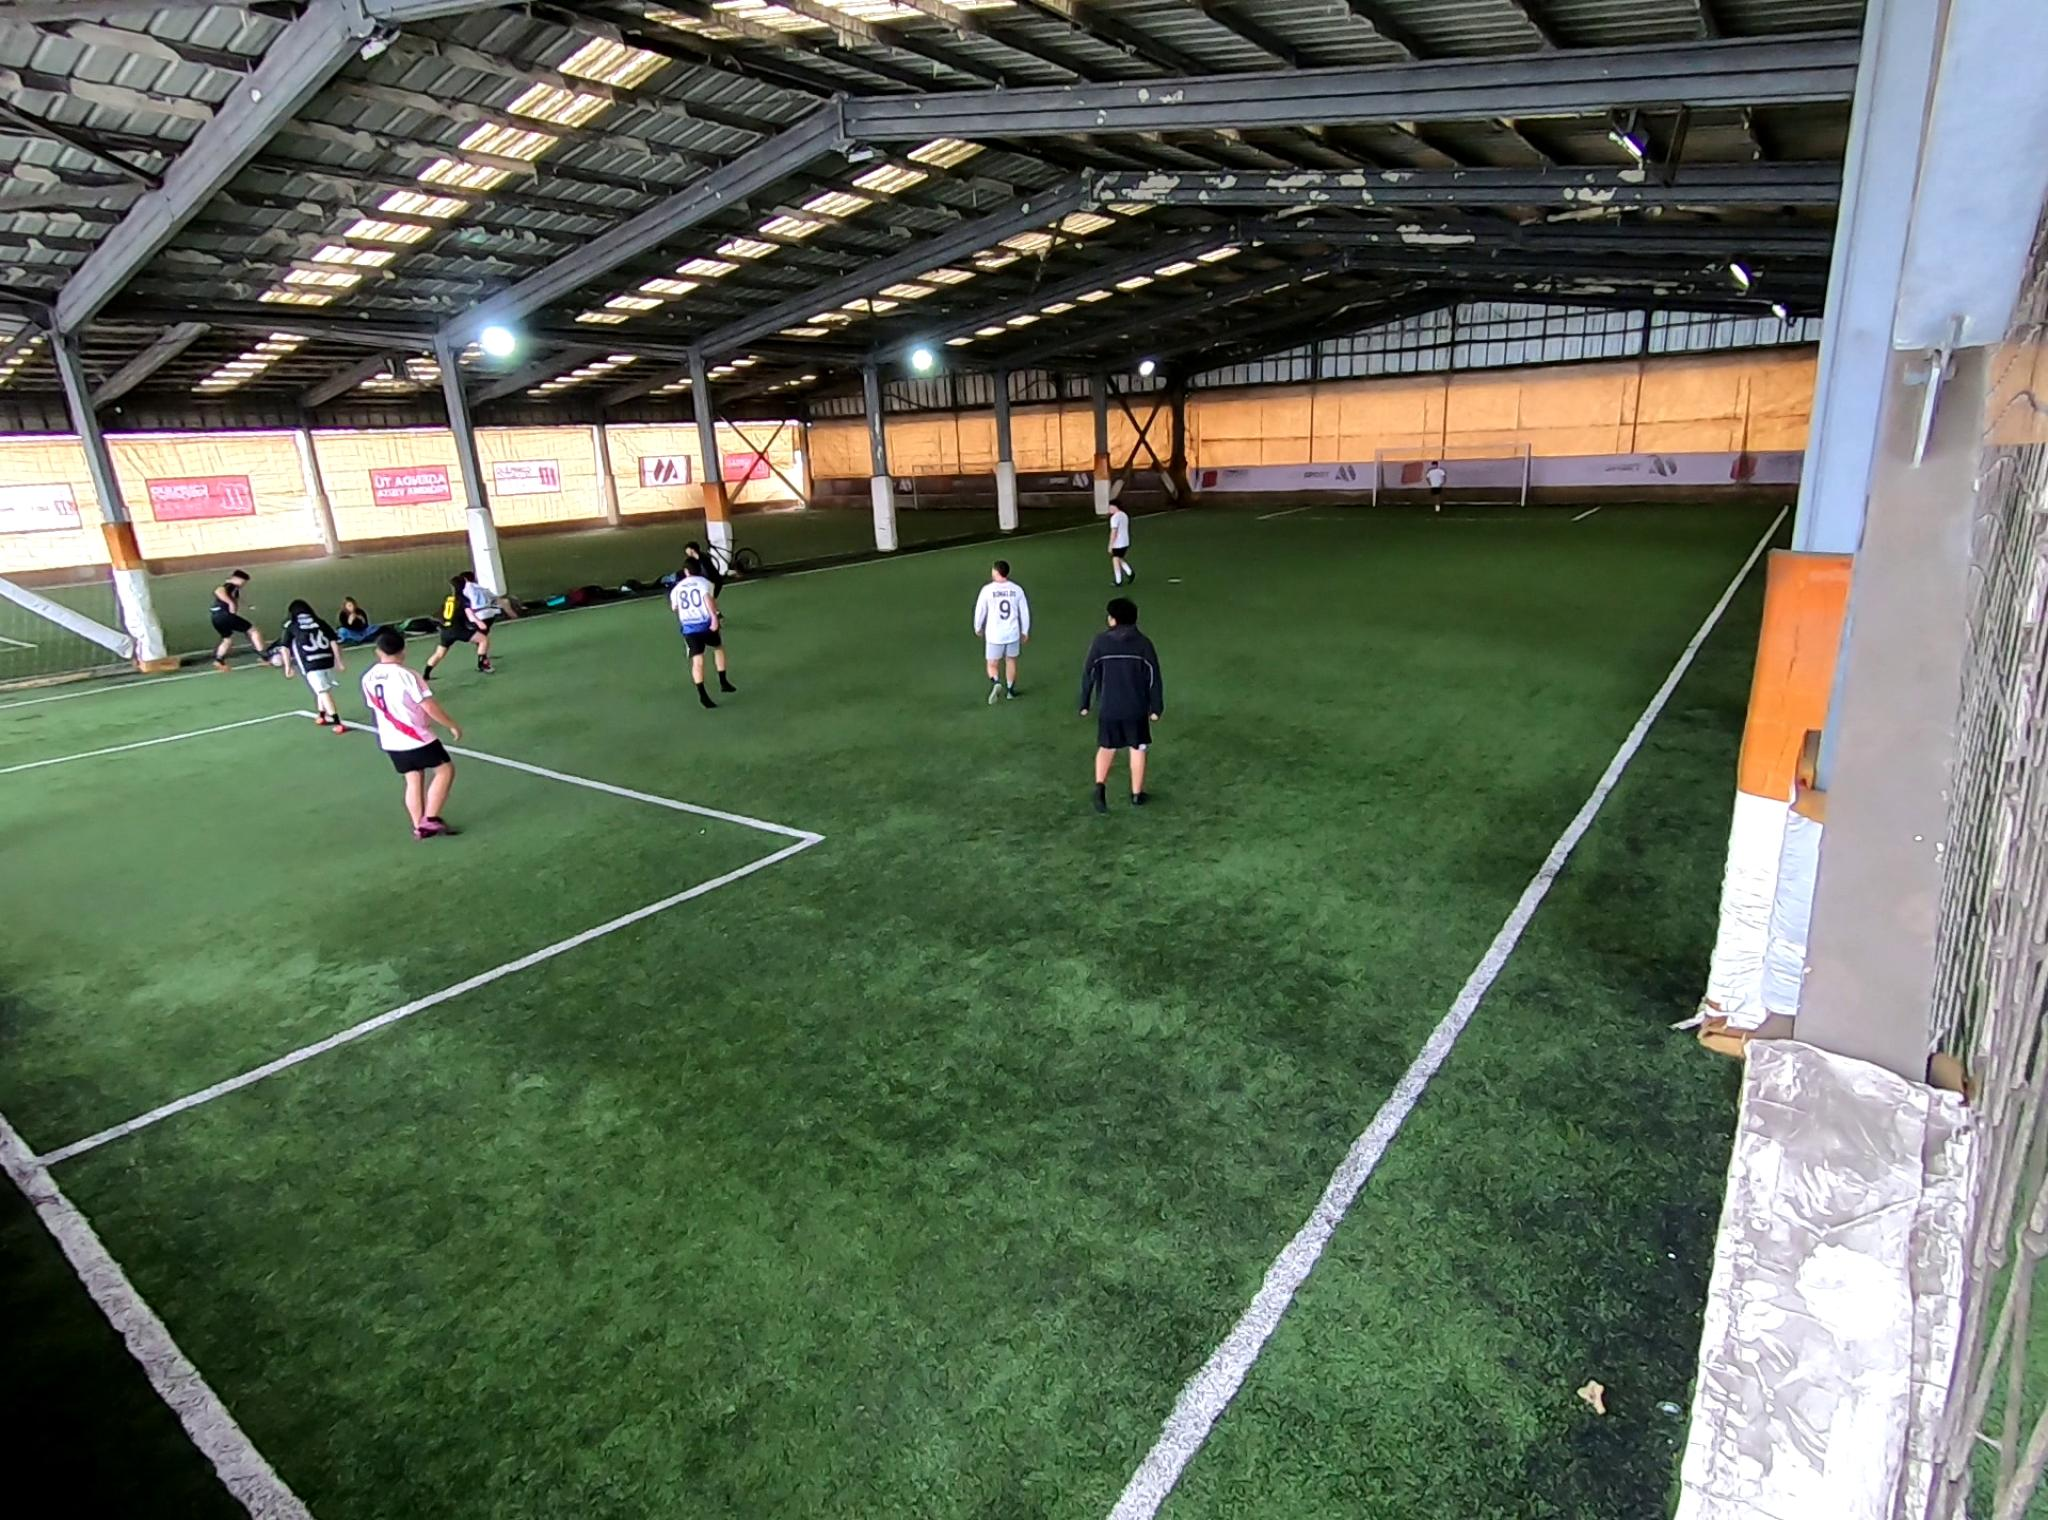BALON: (272, 654, 286, 668)
JUGADOR: (362, 629, 463, 839), (1076, 597, 1164, 813), (670, 560, 736, 708), (284, 598, 346, 733), (973, 560, 1030, 705), (423, 575, 492, 680), (211, 570, 272, 673), (459, 571, 500, 668), (685, 542, 723, 620), (1107, 500, 1135, 587), (1424, 460, 1446, 515)
